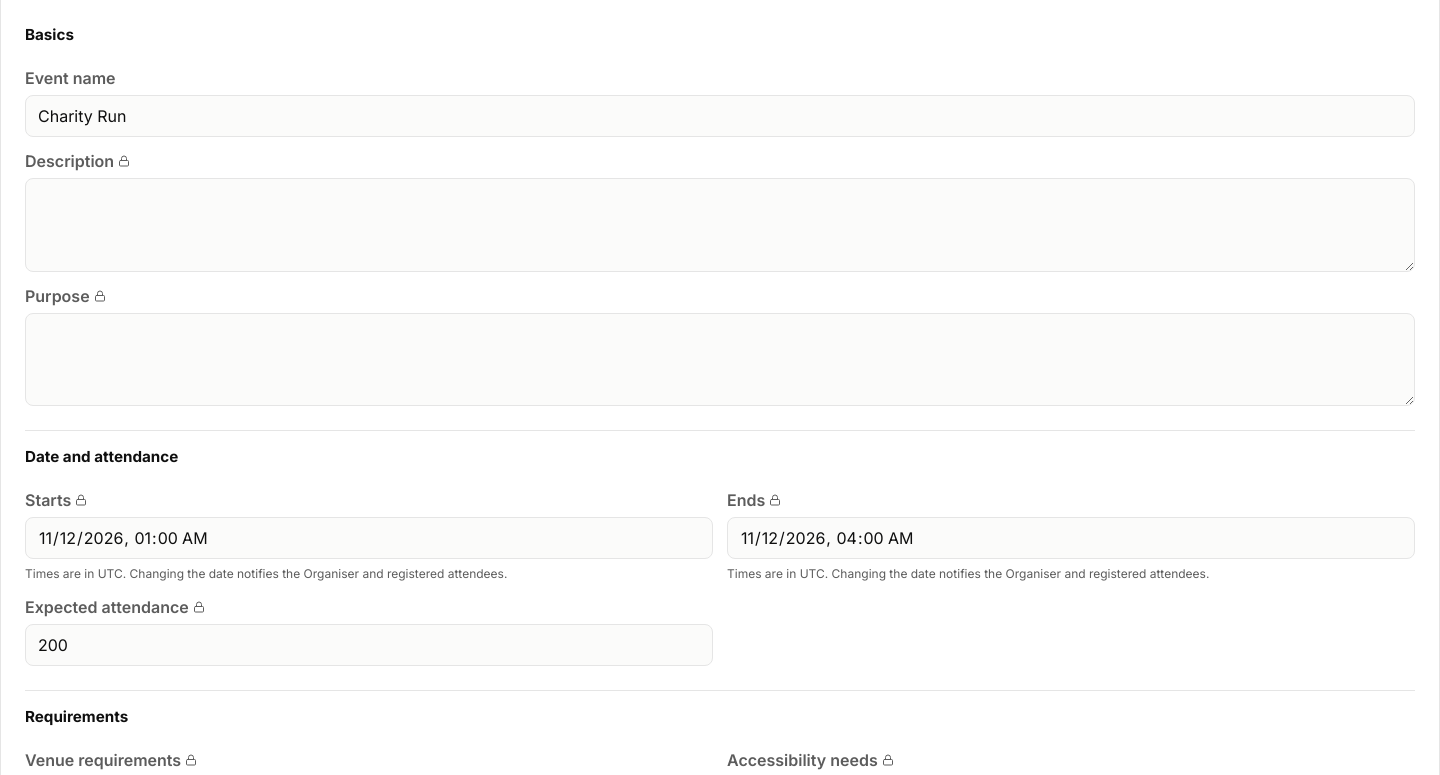
Scenario: a late preview answer does not save (#380 review) › sends no save of the old edit after the field is edited again
(page scrolled)
Replace the text in the field labelled "Event name" with "Charity Run 2026" at coordinates (720, 116), box [25,95,1415,137]
(page scrolled)
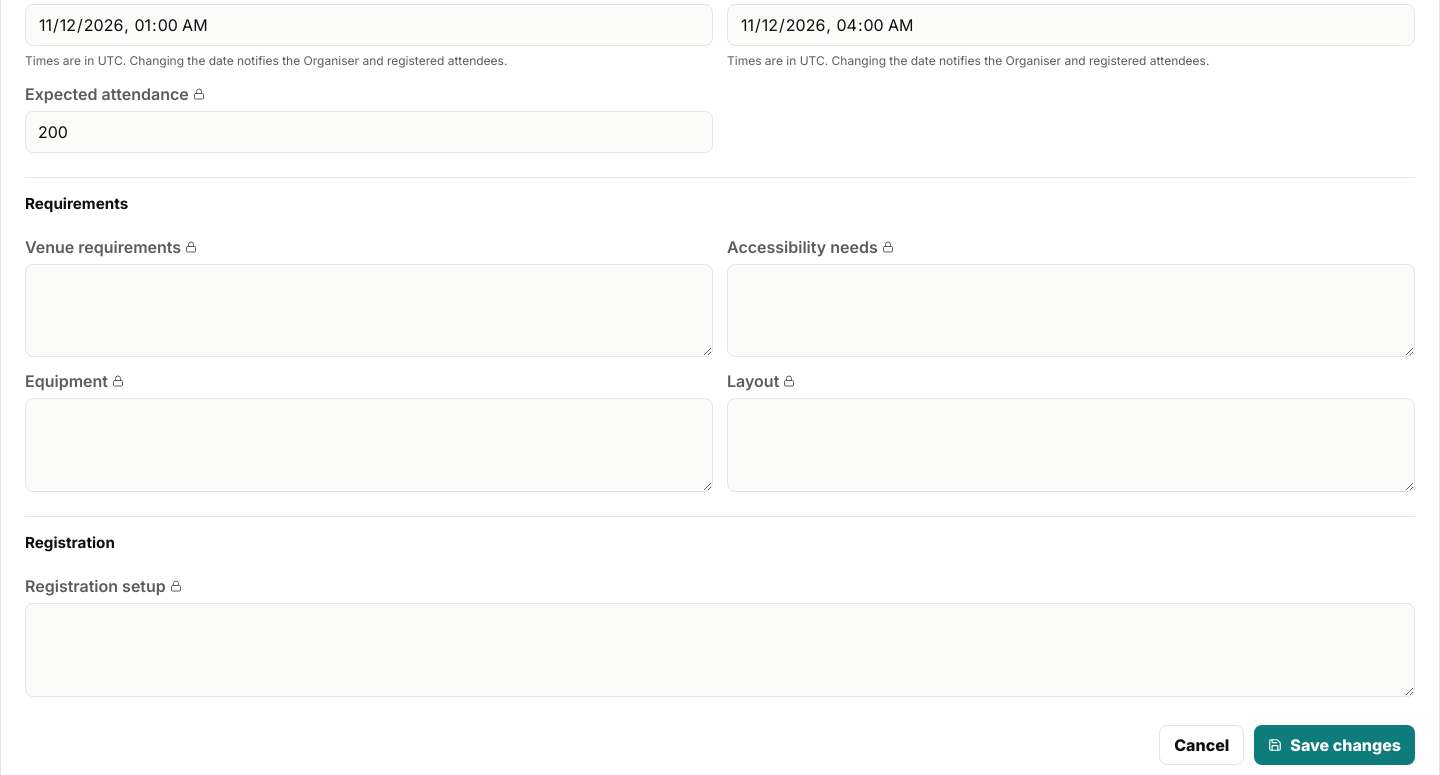
Click the button "Save changes" at coordinates (1335, 745), box [1254,725,1415,765]
(page scrolled)
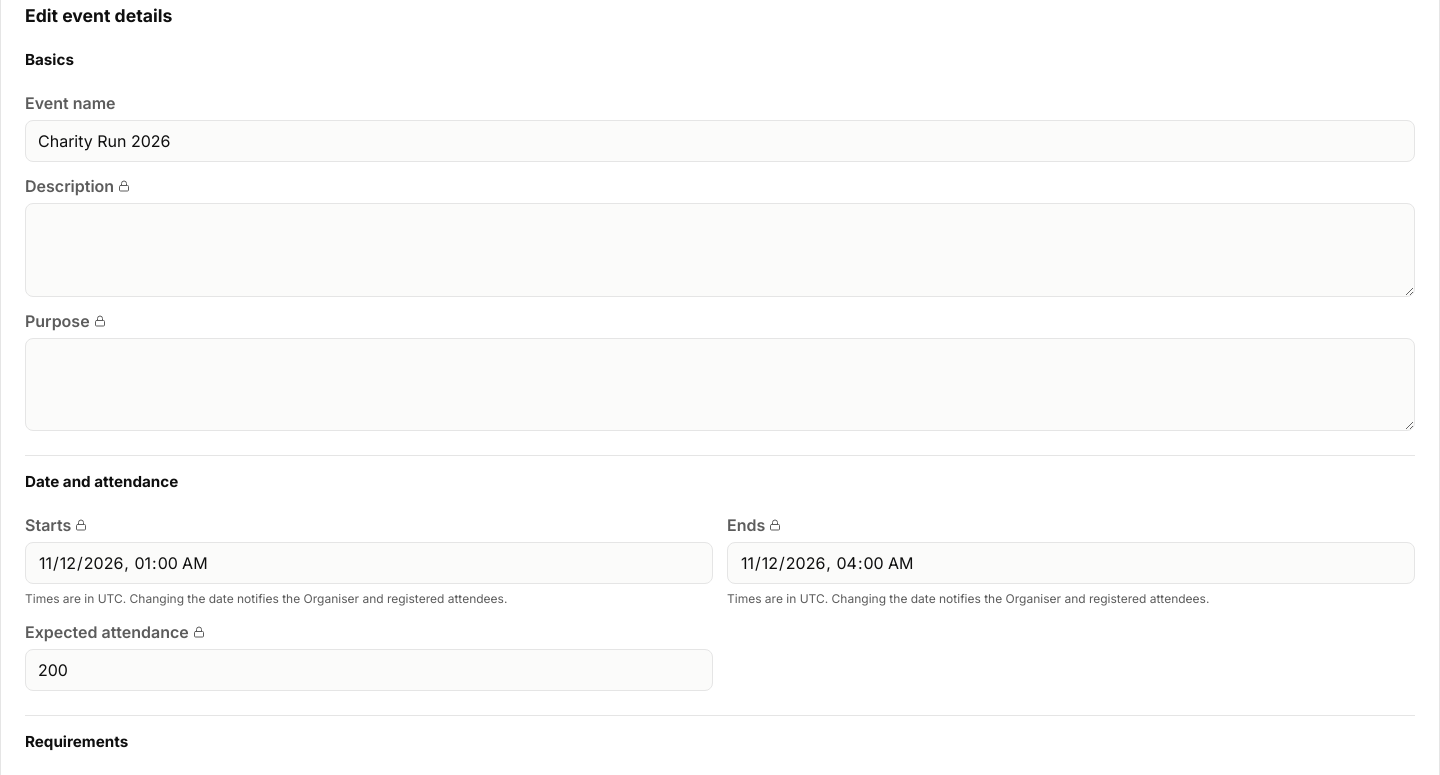
Replace the text in the field labelled "Event name" with "Charity Run 2027" at coordinates (720, 141), box [25,120,1415,162]
(page scrolled)
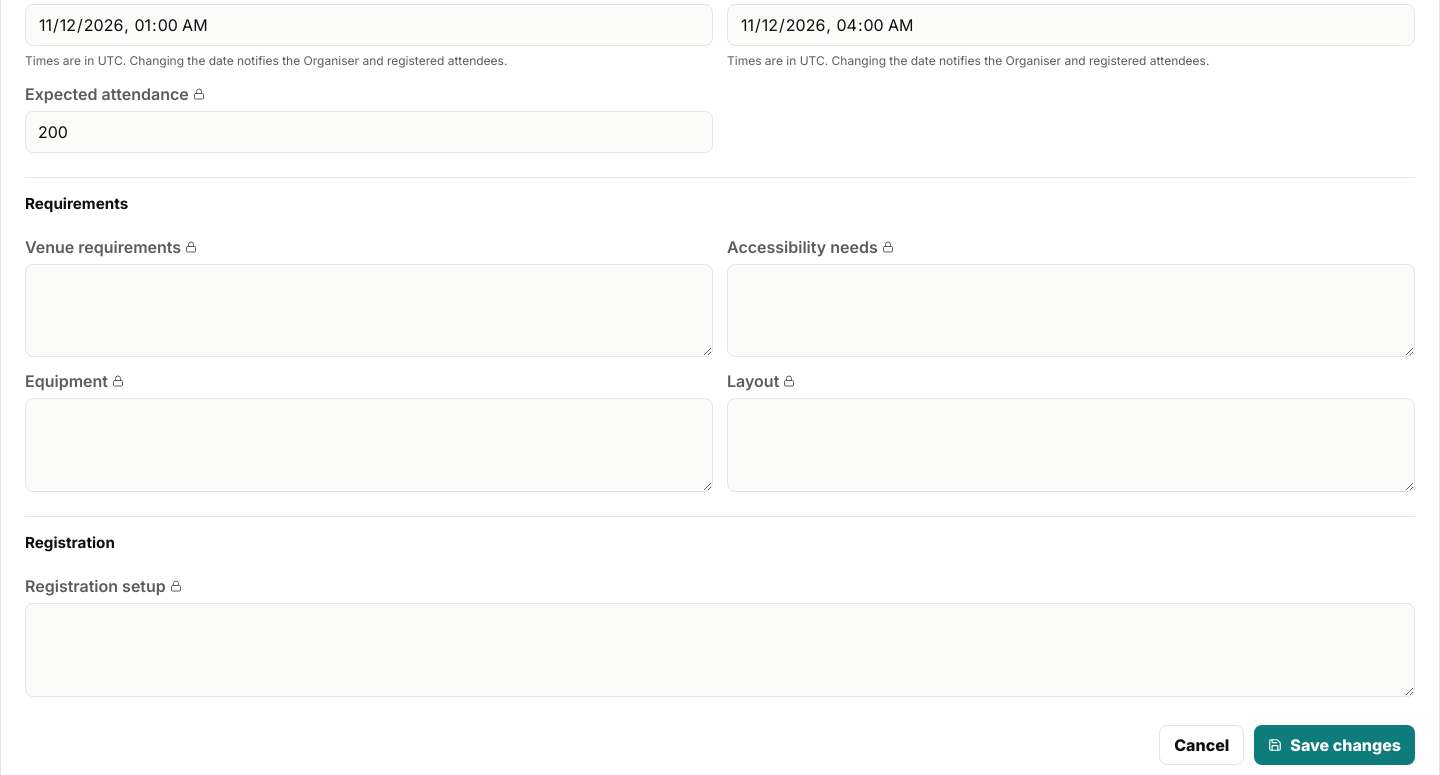
Now the button "Save changes" is enabled, box [1254,725,1415,765]
